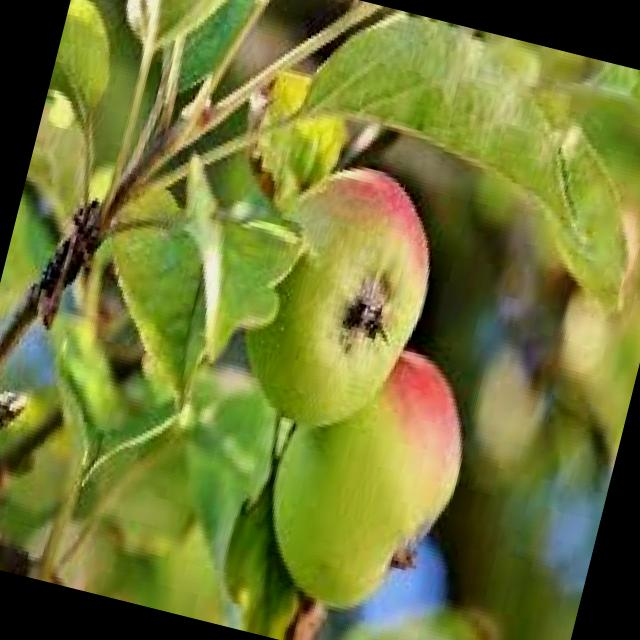Apple: (248, 324, 487, 628), (225, 144, 456, 448), (337, 575, 516, 640)
